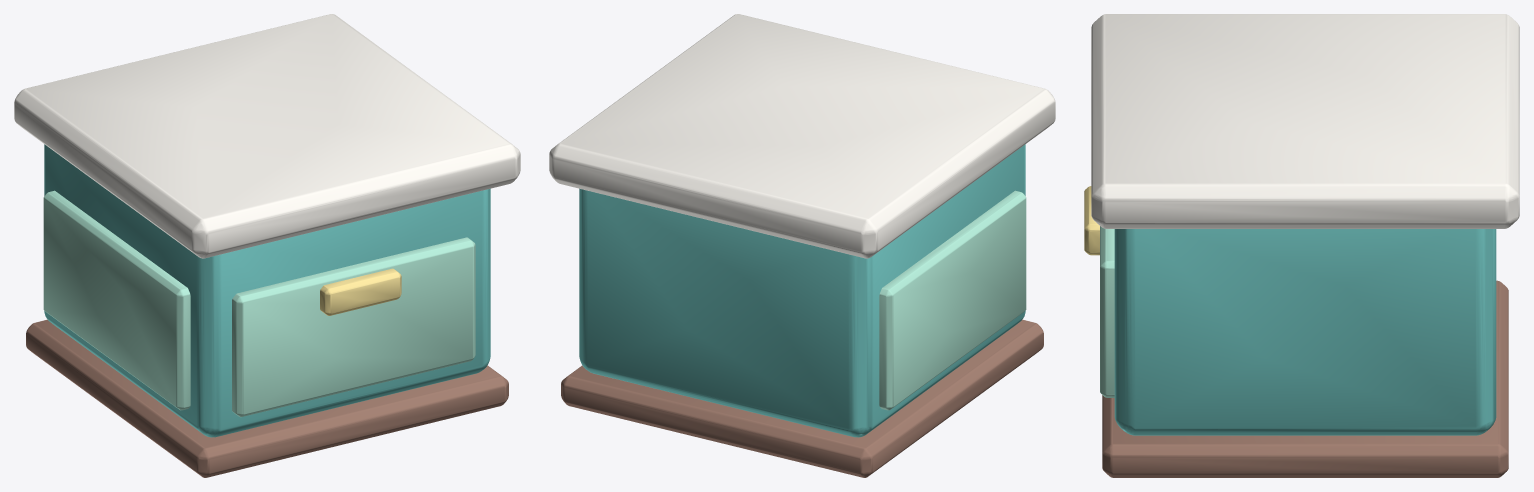
Rendered from counter_corner.glb.
3 views of the same model, side by side, from view 1: azimuth 30°, elevation 25°; view 2: azimuth 150°, elevation 25°; view 3: azimuth 270°, elevation 25° (orthographic). The views are drawn at different scales.
Parts seen in each view (by area): view 1: CounterCorner_Top, CounterCorner_Body, CounterCorner_FrontInset, CounterCorner_Platform, CounterCorner_SideInset, CounterCorner_YellowBadge; view 2: CounterCorner_Top, CounterCorner_Body, CounterCorner_Platform, CounterCorner_SideInset; view 3: CounterCorner_Top, CounterCorner_Body, CounterCorner_Platform, CounterCorner_FrontInset, CounterCorner_YellowBadge.
Boxes of the visible parts, left/top/right/bottom form: CounterCorner_Top: left=14, top=14, right=520, bottom=258; CounterCorner_Body: left=44, top=144, right=490, bottom=437; CounterCorner_FrontInset: left=232, top=237, right=475, bottom=417; CounterCorner_Platform: left=26, top=319, right=508, bottom=477; CounterCorner_SideInset: left=43, top=190, right=190, bottom=410; CounterCorner_YellowBadge: left=320, top=268, right=401, bottom=315; CounterCorner_Top: left=549, top=14, right=1055, bottom=258; CounterCorner_Body: left=579, top=144, right=1025, bottom=437; CounterCorner_Platform: left=561, top=319, right=1043, bottom=477; CounterCorner_SideInset: left=879, top=190, right=1026, bottom=410; CounterCorner_Top: left=1091, top=14, right=1519, bottom=228; CounterCorner_Body: left=1114, top=229, right=1496, bottom=435; CounterCorner_Platform: left=1102, top=280, right=1508, bottom=477; CounterCorner_FrontInset: left=1100, top=226, right=1114, bottom=397; CounterCorner_YellowBadge: left=1084, top=186, right=1099, bottom=255.
Size of the model in its own units: 1.37 by 1.05 by 1.39.
